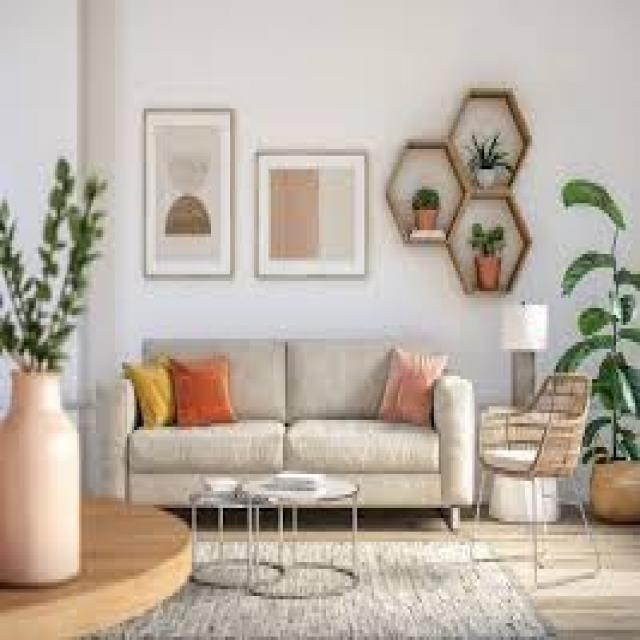Chair: (474, 366, 595, 581)
Lamp: (504, 304, 544, 395)
Sofa: (104, 326, 474, 532)
Table: (177, 476, 382, 613)
